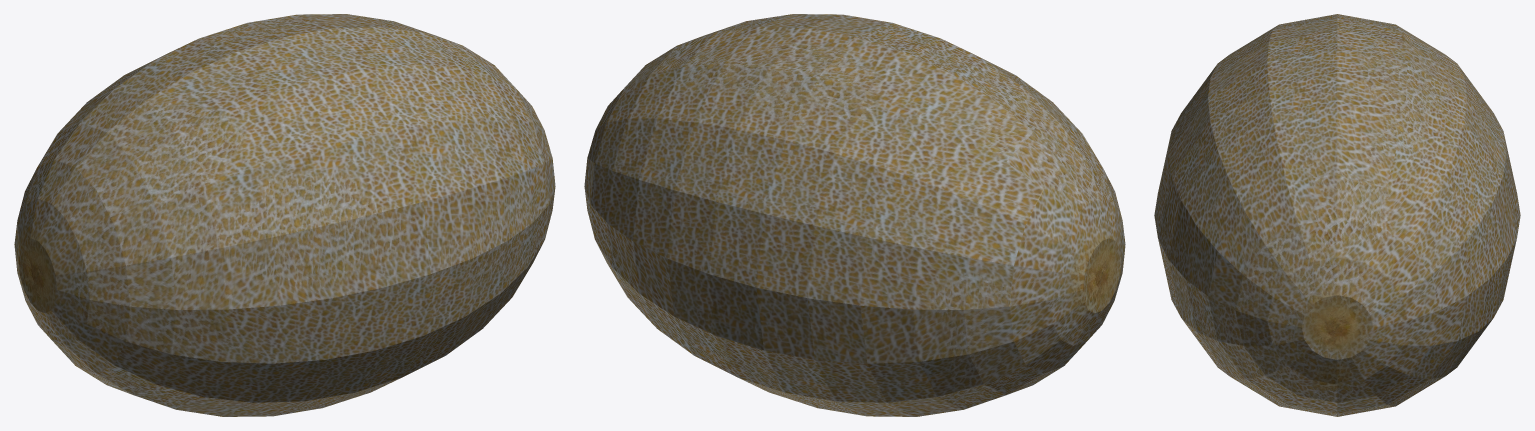
File: melon.fbx
The picture shows the model from 3 angles, left to right: view 1: azimuth 30°, elevation 25°; view 2: azimuth 150°, elevation 25°; view 3: azimuth 270°, elevation 25°; orthographic projection. The views are drawn at different scales.
Visible parts, largest first — view 1: Melon.008, Melon.007, Melon.004, Melon.002, Melon.005, Melon; view 2: Melon.002, Melon.003, Melon, Melon.008, Melon.007, Melon.006; view 3: Melon.008, Melon, Melon.006, Melon.004, Melon.003, Melon.002, Melon.005.
Boxes of the visible parts, <box> form: Melon.008: <box>38,27,552,275</box>; Melon.007: <box>14,222,464,416</box>; Melon.004: <box>325,163,549,359</box>; Melon.002: <box>17,14,333,248</box>; Melon.005: <box>446,241,543,355</box>; Melon: <box>298,14,457,43</box>; Melon.002: <box>764,28,1101,309</box>; Melon.003: <box>591,205,1086,416</box>; Melon: <box>590,27,816,298</box>; Melon.008: <box>682,14,1122,248</box>; Melon.007: <box>1050,222,1125,345</box>; Melon.006: <box>584,78,633,237</box>; Melon.008: <box>1168,14,1337,314</box>; Melon: <box>1337,62,1520,310</box>; Melon.006: <box>1235,218,1439,402</box>; Melon.004: <box>1154,134,1243,345</box>; Melon.003: <box>1279,238,1516,416</box>; Melon.002: <box>1337,14,1506,151</box>; Melon.005: <box>1182,319,1298,406</box>.
Bounding box in the file's own units: 1.65 × 1.14 × 1.14.
